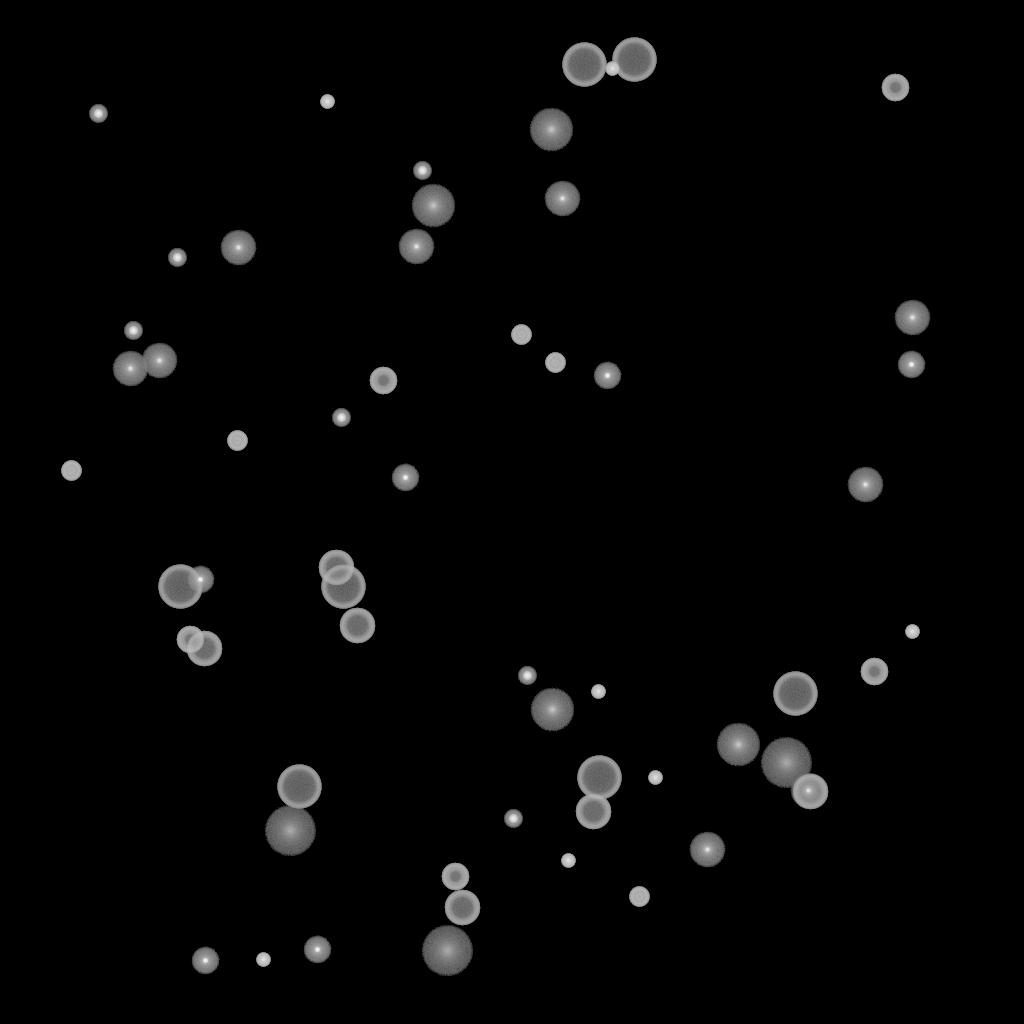depth:-10: (186, 566, 214, 594), (191, 947, 219, 975), (391, 464, 419, 492), (303, 936, 331, 964), (593, 362, 621, 390), (897, 351, 925, 379)
depth:-20: (332, 409, 350, 427), (89, 105, 107, 123), (413, 162, 431, 180), (504, 810, 522, 828), (168, 249, 186, 267), (518, 667, 536, 685), (124, 322, 142, 340)
depth:-30: (648, 771, 662, 785), (256, 953, 270, 967), (561, 854, 575, 868), (605, 62, 619, 76), (905, 625, 919, 639), (591, 685, 605, 699), (320, 95, 334, 109)
depth:-40: (511, 325, 531, 345), (61, 461, 81, 481), (227, 431, 247, 451), (629, 887, 649, 907), (545, 353, 565, 373)
depth:-50: (860, 658, 888, 686), (441, 863, 469, 891), (176, 626, 204, 654), (881, 74, 909, 102), (369, 367, 397, 395)
depth:-60: (186, 631, 222, 667), (792, 774, 828, 810), (444, 890, 480, 926), (339, 608, 375, 644), (575, 794, 611, 830), (318, 550, 354, 586)
depth:-70: (562, 43, 606, 87), (321, 565, 365, 609), (577, 756, 621, 800), (158, 565, 202, 609), (612, 38, 656, 82), (277, 765, 321, 809), (773, 672, 817, 716)
depth:0: (544, 181, 580, 217), (689, 832, 725, 868), (112, 351, 148, 387), (790, 773, 826, 809), (398, 229, 434, 265), (141, 343, 177, 379), (847, 467, 883, 503), (220, 230, 256, 266), (894, 300, 930, 336)
depth:10: (411, 184, 455, 228), (530, 688, 574, 732), (529, 108, 573, 152), (716, 723, 760, 767)
depth:20: (264, 806, 316, 856), (421, 926, 473, 976), (760, 738, 812, 788)
